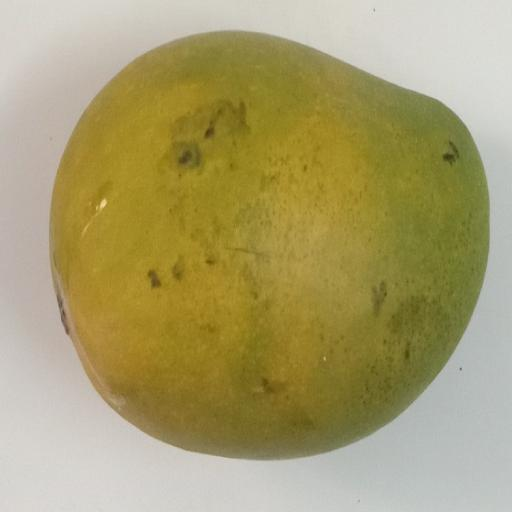mango-ripe: (62, 33, 497, 405)
